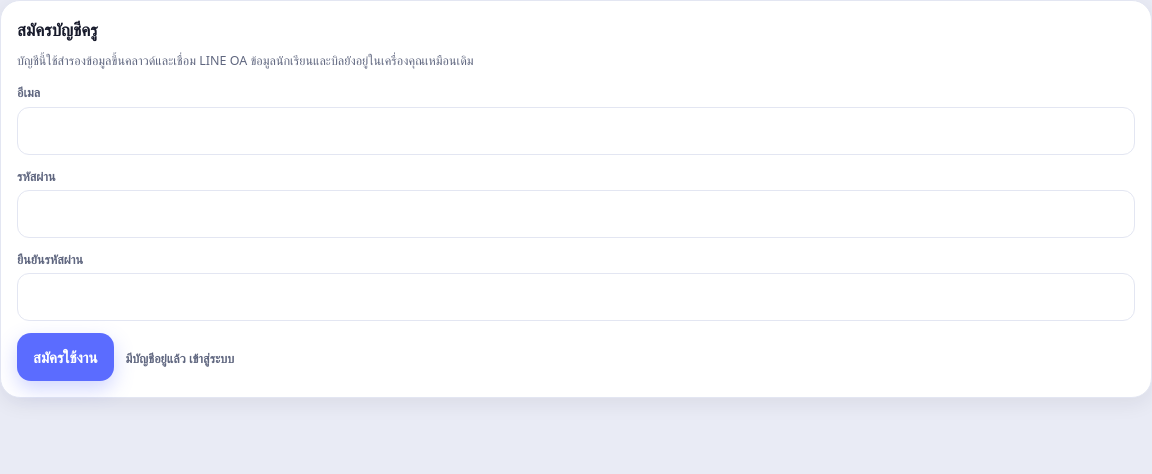
ยืนยันรหัสผ่านตอนสมัคร › สองช่องไม่ตรงกัน → บอกตรง ๆ และไม่ยิงสมัครไปเซิร์ฟเวอร์เลย
Type "kru@example.com" into the field labelled "อีเมล" at (576, 131), box [17,107,1135,155]
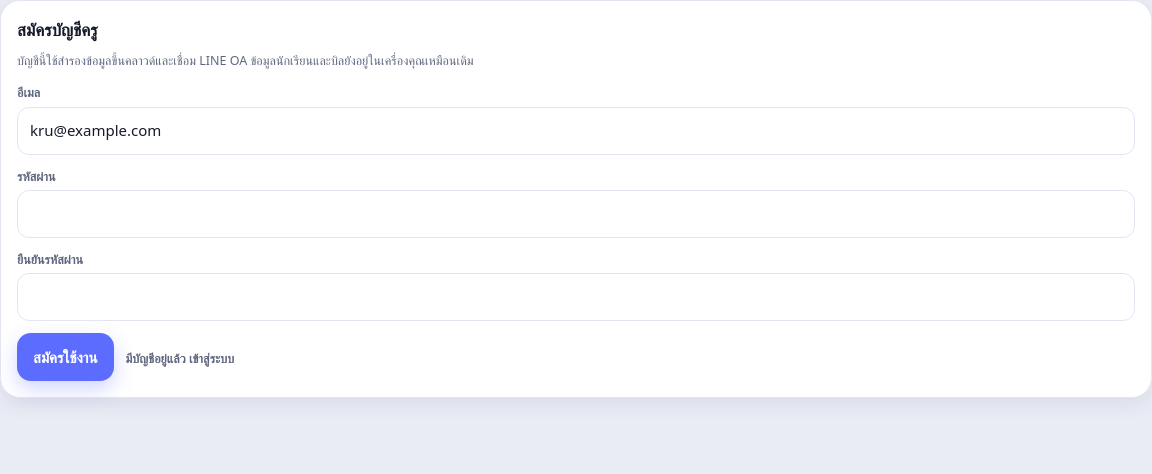
Type "first-password" into the password field labelled "รหัสผ่าน" at (576, 214), box [17,190,1135,238]
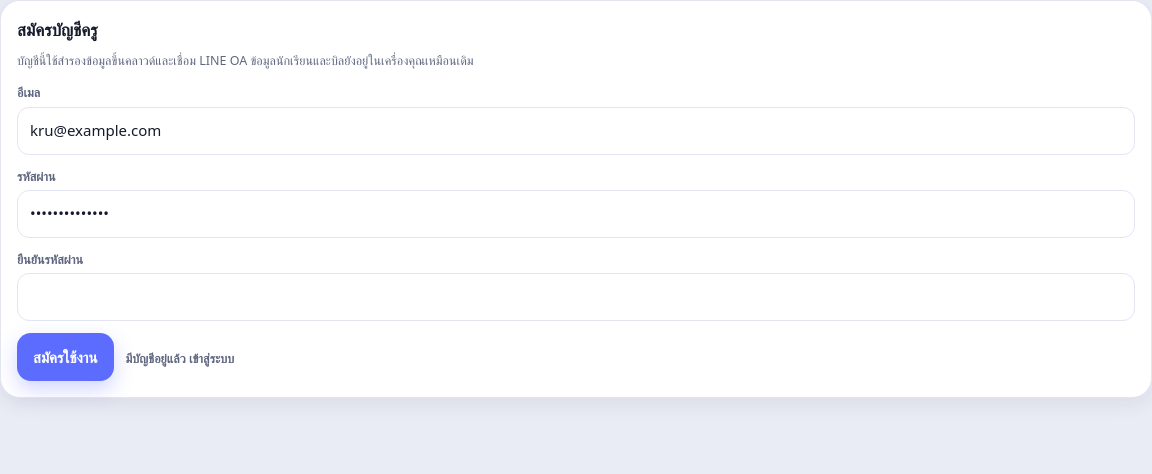
Type "second-password" into the password field labelled "ยืนยันรหัสผ่าน" at (576, 297), box [17,273,1135,321]
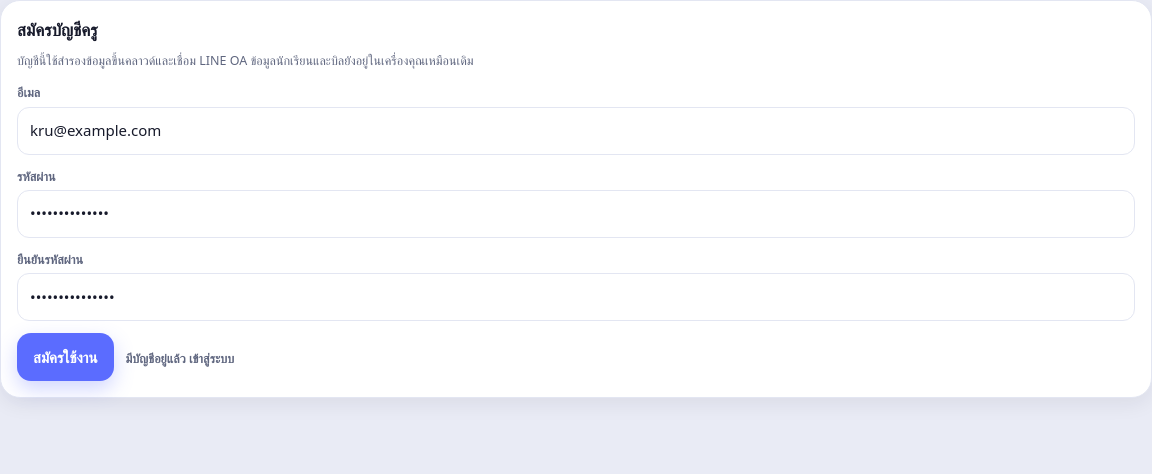
Submit the form
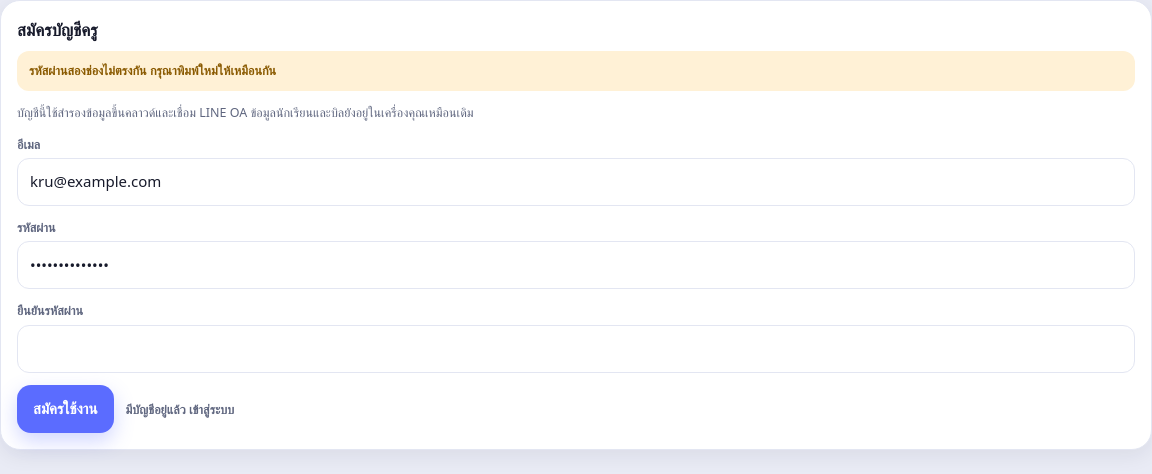
Now the message shows "ไม่ตรงกัน", box [29,62,276,79]
Now the password field labelled "ยืนยันรหัสผ่าน" is empty, box [17,325,1135,373]
